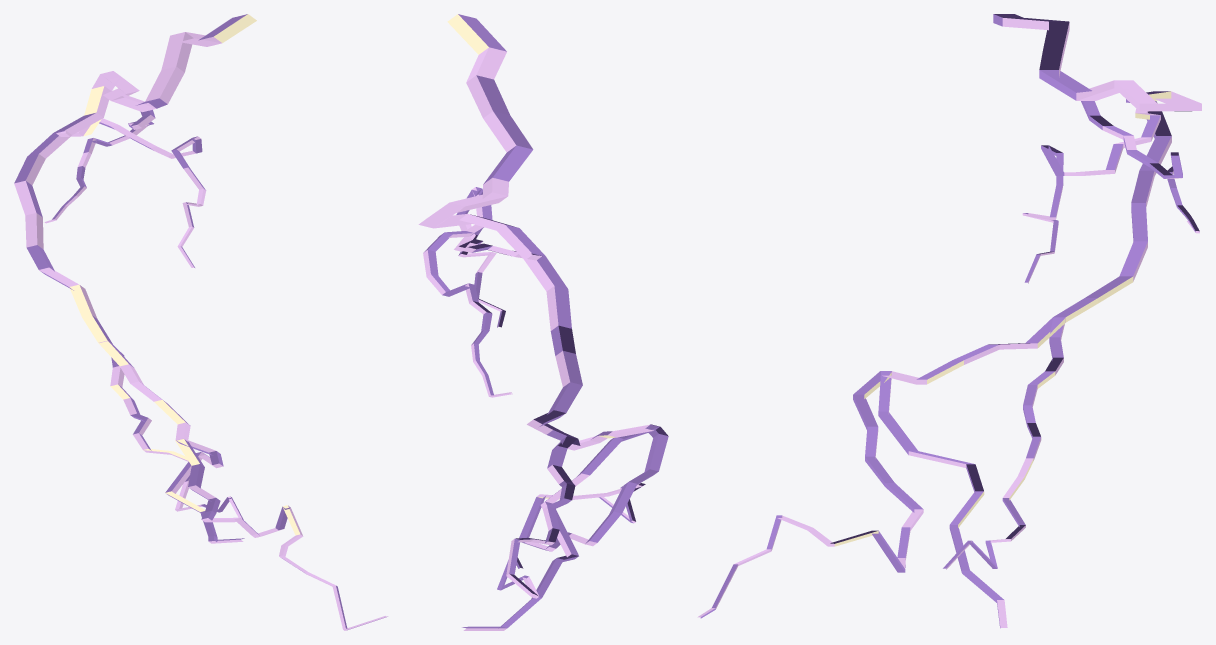
The model's file is lightning_fork.glb.
3 renders of one model, left to right at view 1: azimuth 30°, elevation 25°; view 2: azimuth 150°, elevation 25°; view 3: azimuth 270°, elevation 25°, orthographic. The views are drawn at different scales.
Parts seen in each view (by area): view 1: lightning_fork; view 2: lightning_fork; view 3: lightning_fork.
Boxes of the visible parts, x1,y1,x2,y2 form: lightning_fork: [14, 14, 387, 630]; lightning_fork: [418, 14, 668, 630]; lightning_fork: [697, 14, 1201, 628].
Size of the model in its own units: 1.39 by 4 by 2.99.
